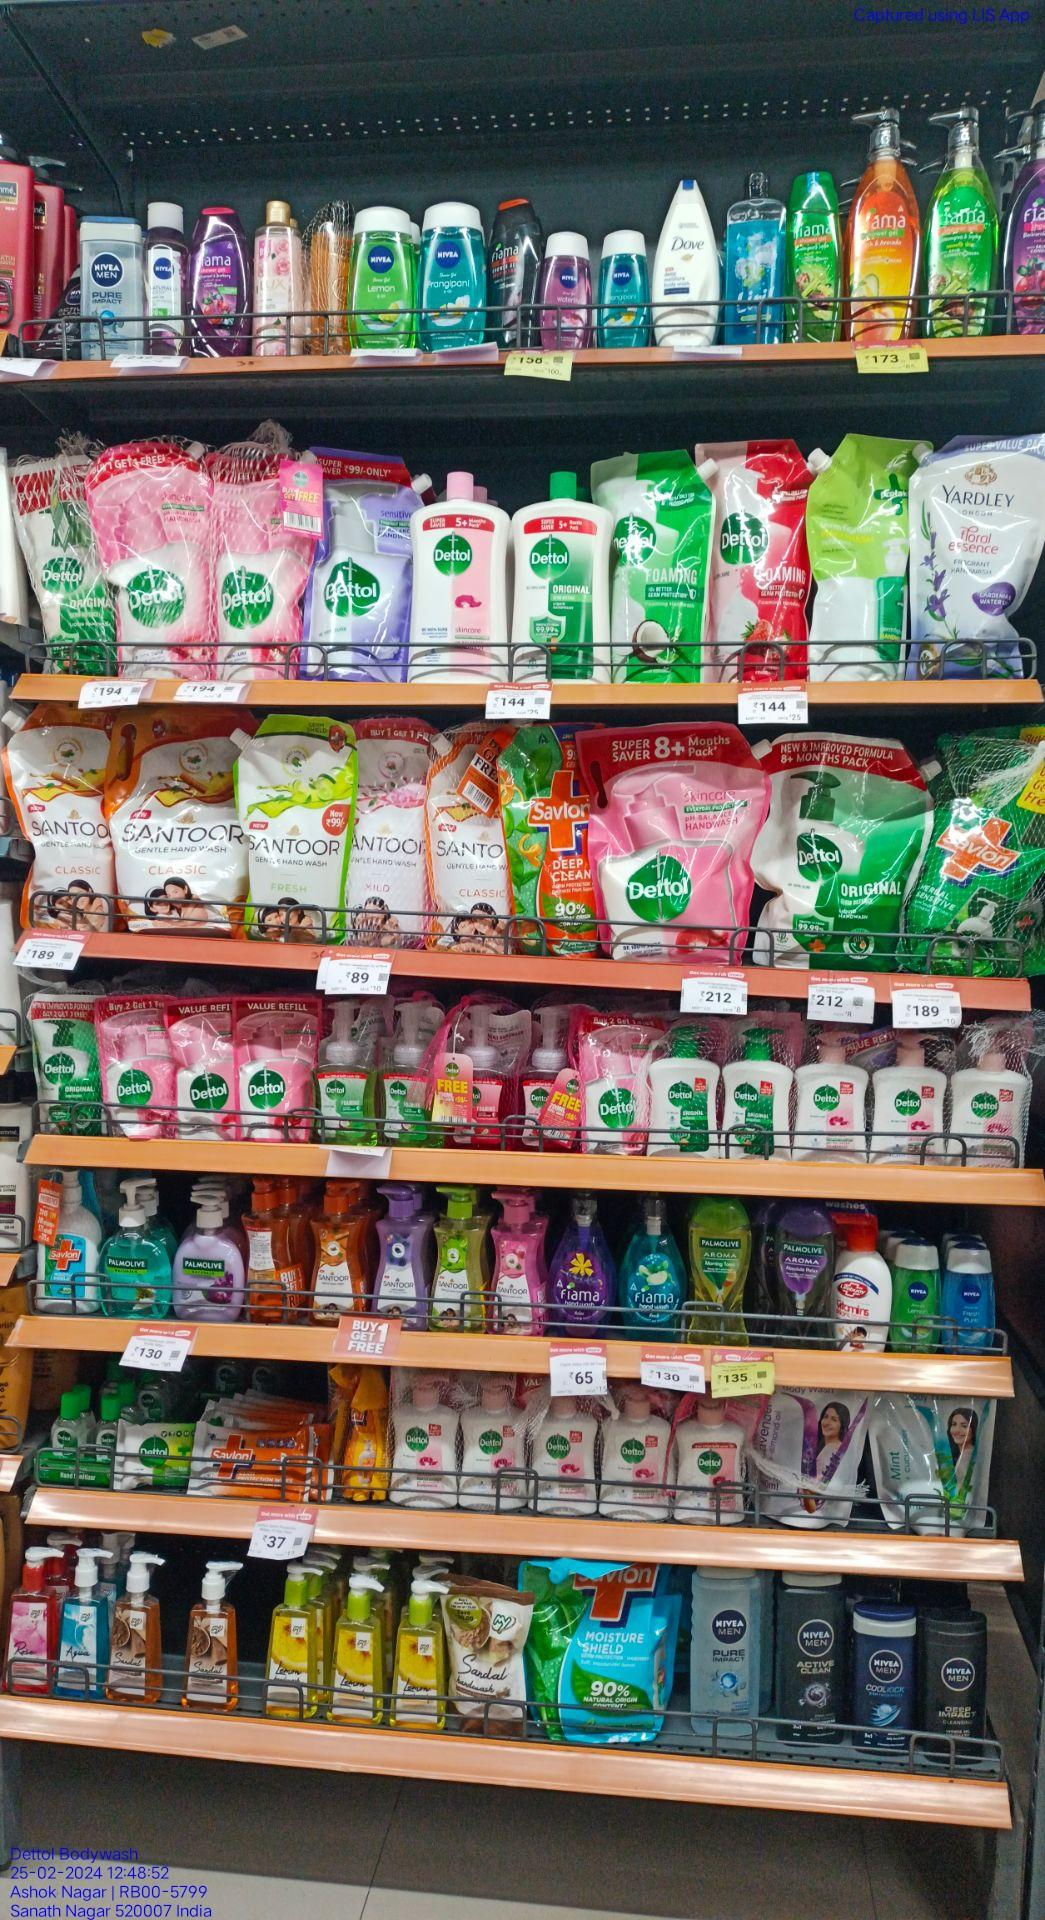Nivea_Shower_Gel_Frangipani_and_Oil_250ML: (420, 199, 485, 351)
Nivea_Shower_Gel_Lemon_and_Oil_250ML: (350, 203, 412, 353)
Palmolive_Aroma_Morning_Tonic_Shower_Gel_250ML: (683, 1197, 753, 1345)
Palmolive_Aroma_Relax_250ML: (767, 1202, 835, 1347)
